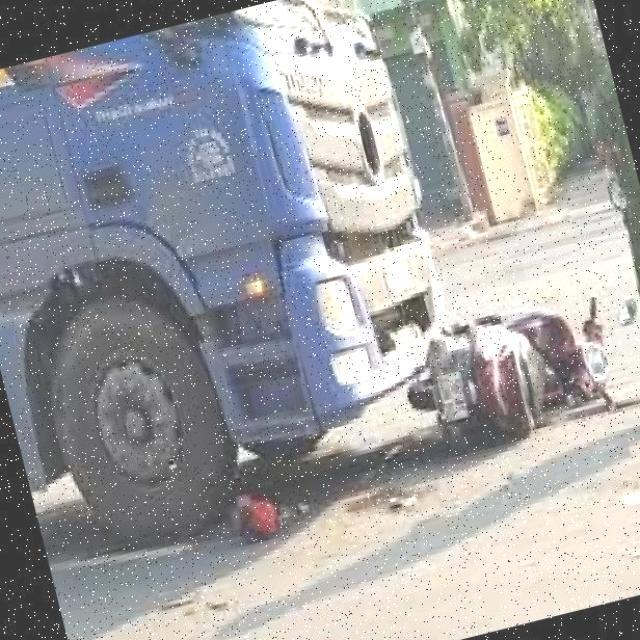accident: (259, 74, 640, 544)
